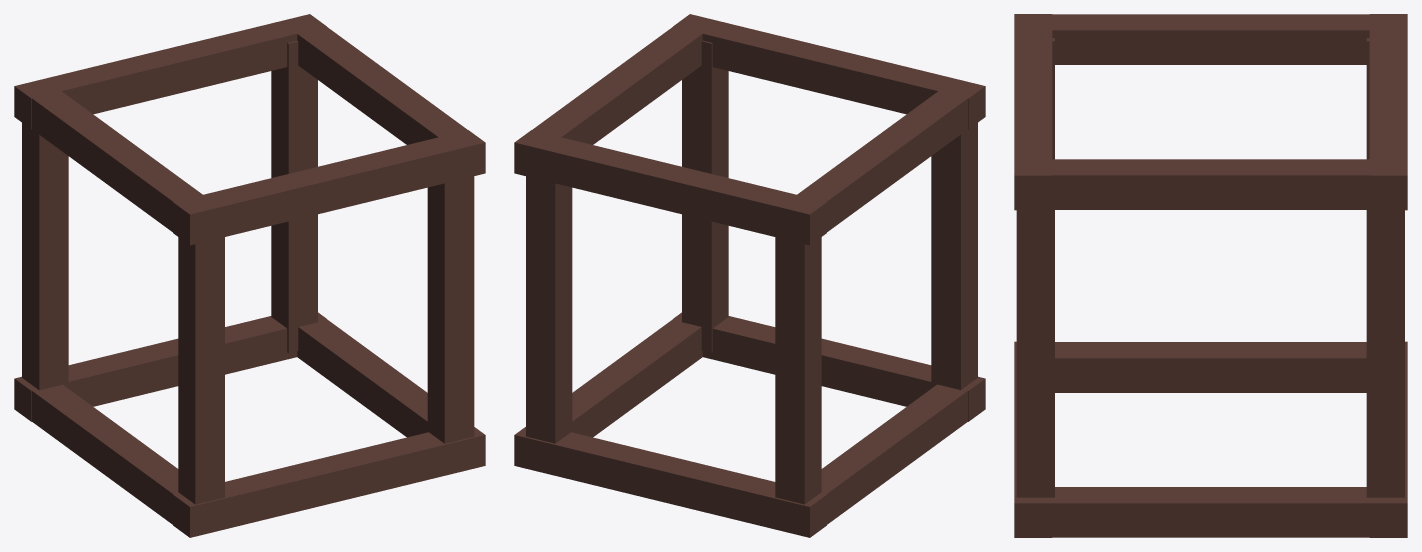
File: Backstage Crate.FBX
3 renders of one model, left to right at view 1: azimuth 30°, elevation 25°; view 2: azimuth 150°, elevation 25°; view 3: azimuth 270°, elevation 25°, orthographic. The views are drawn at different scales.
Visible parts, largest first — view 1: Backstage Crate (×12); view 2: Backstage Crate (×12); view 3: Backstage Crate (×11).
Part boxes in pixels (x1,y1,x2,y2): Backstage Crate (×12): (14, 14, 485, 537); Backstage Crate (×12): (514, 14, 985, 537); Backstage Crate (×11): (1014, 14, 1407, 537).
Size of the model in its own units: 0.2 by 0.2091 by 0.2058.
